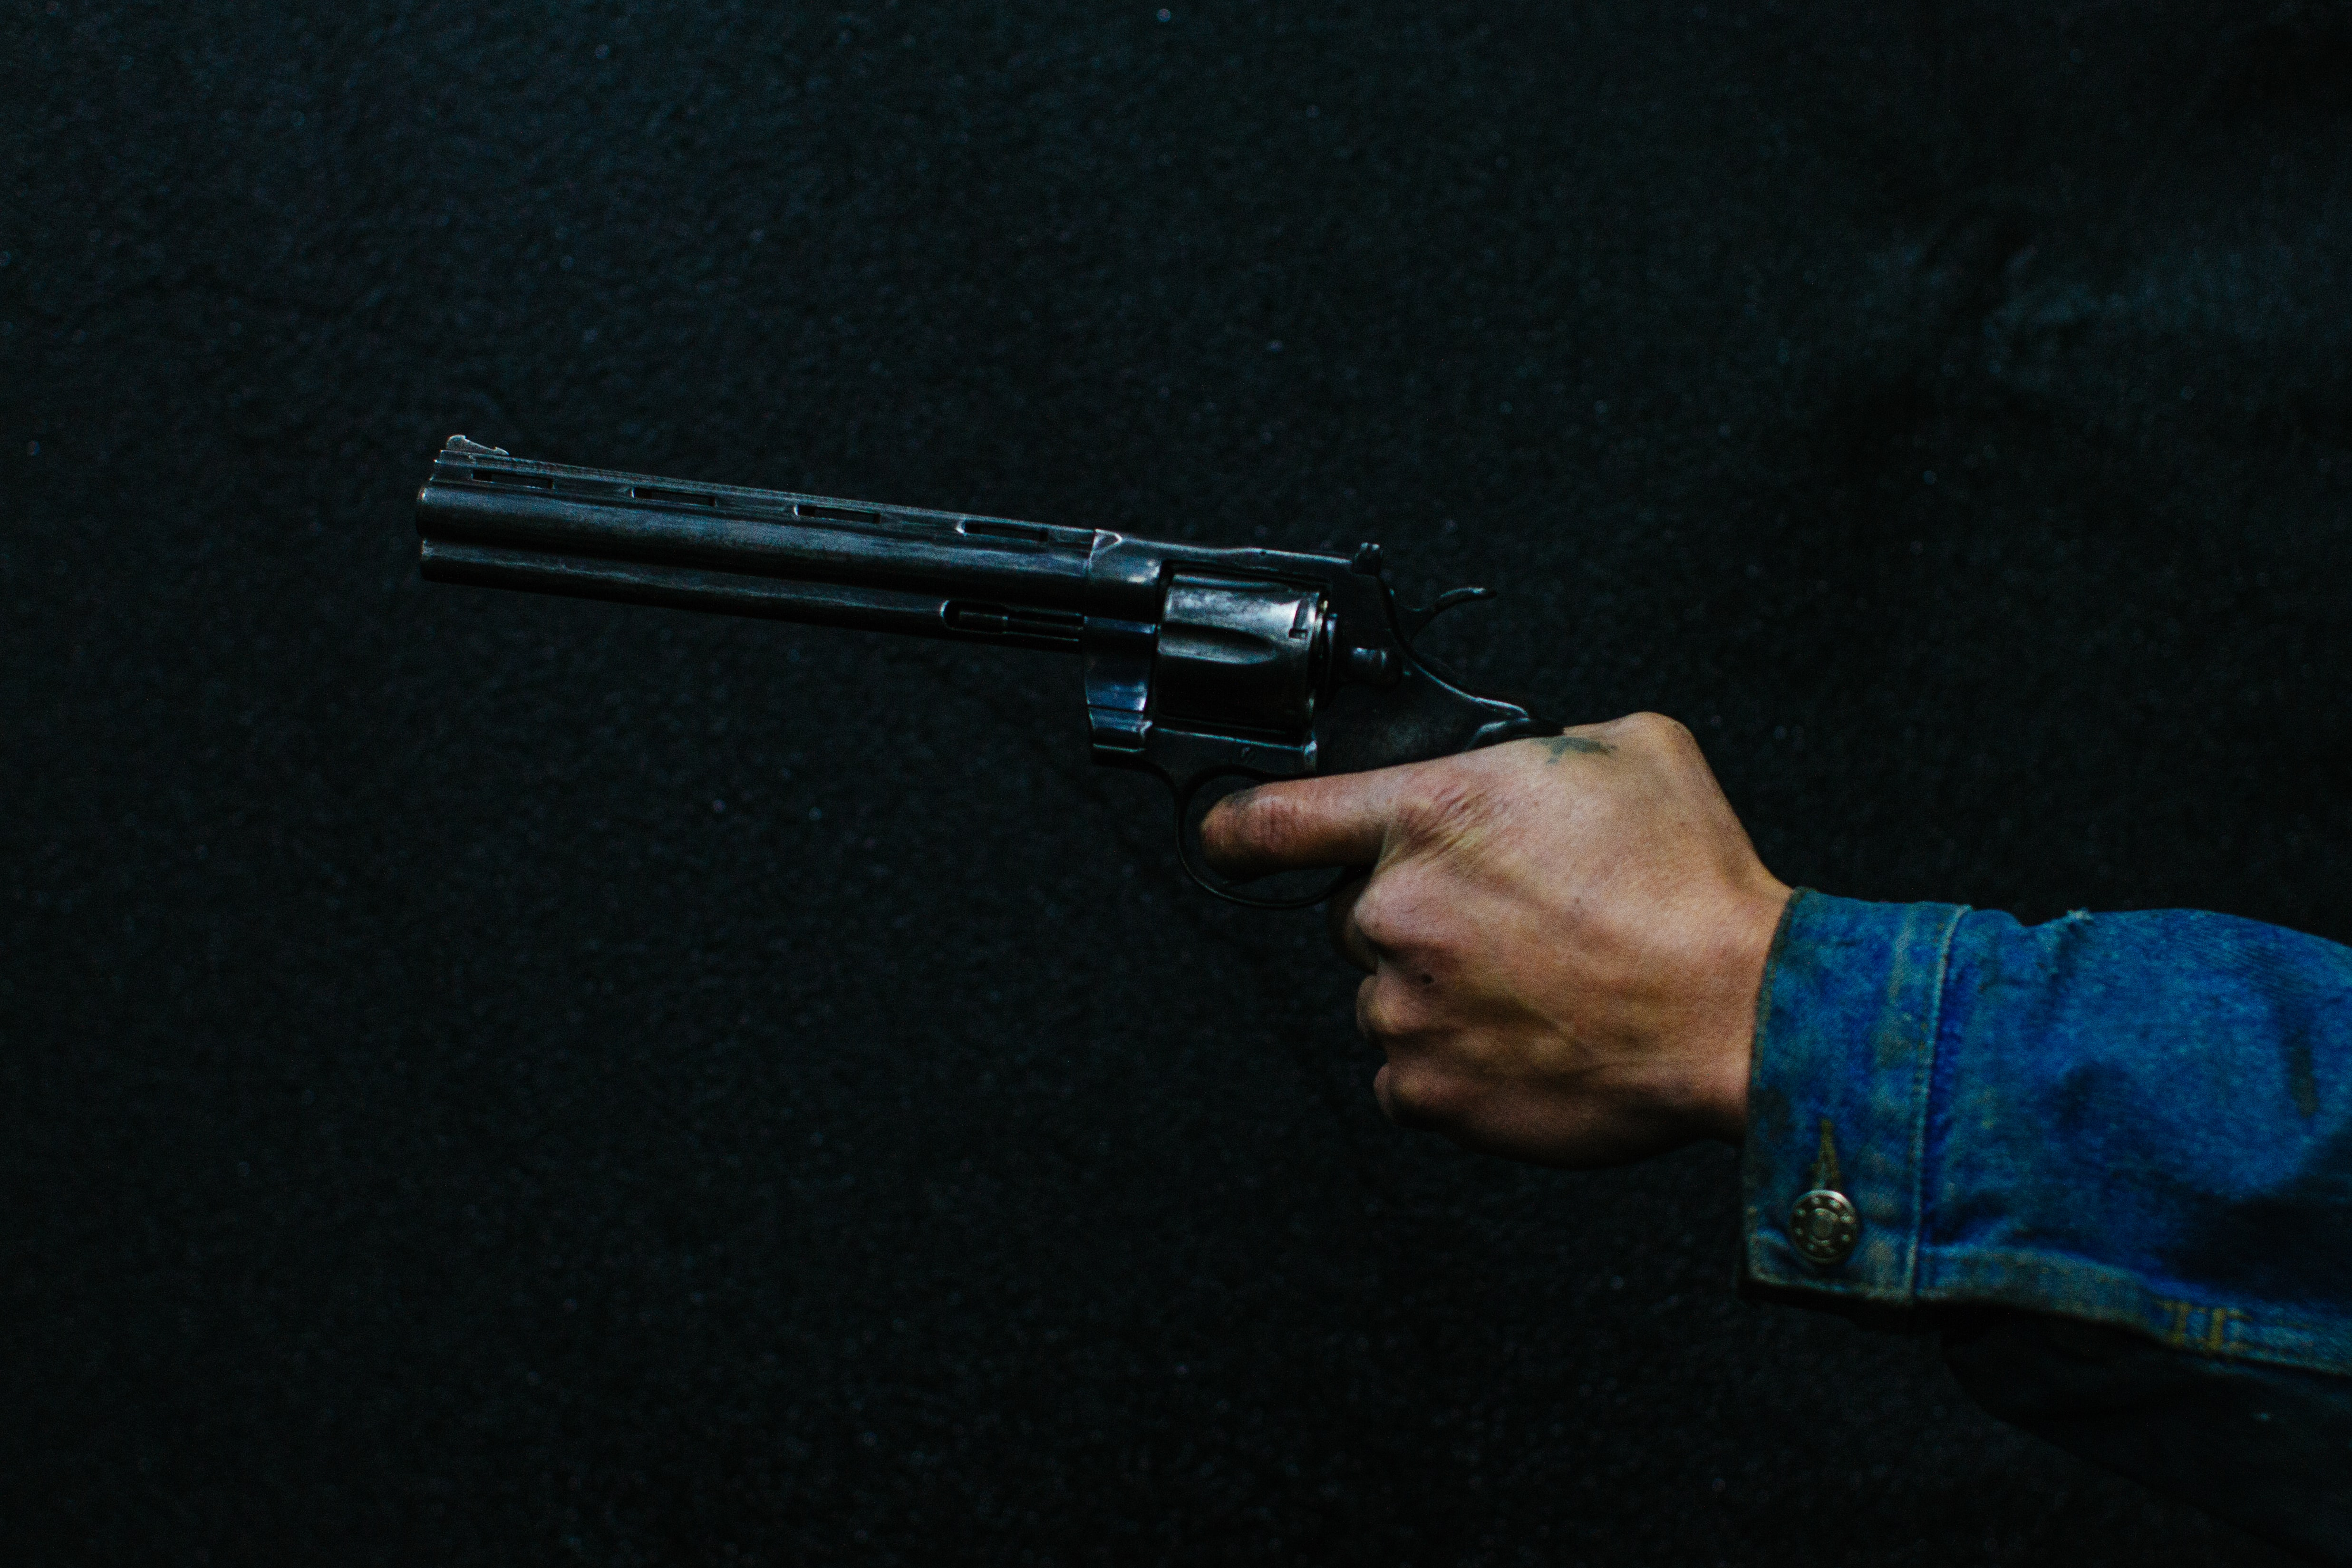Gun: (397, 350, 1479, 777)
